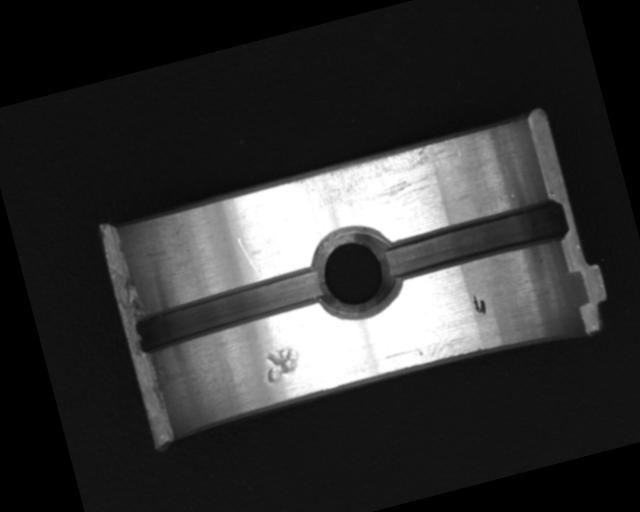blot: (470, 291, 488, 319)
bruise: (259, 343, 305, 387)
gap: (130, 263, 330, 358), (378, 197, 571, 286)
hole: (301, 218, 408, 327)
nick: (236, 234, 262, 282)
scratch: (286, 134, 472, 228)
